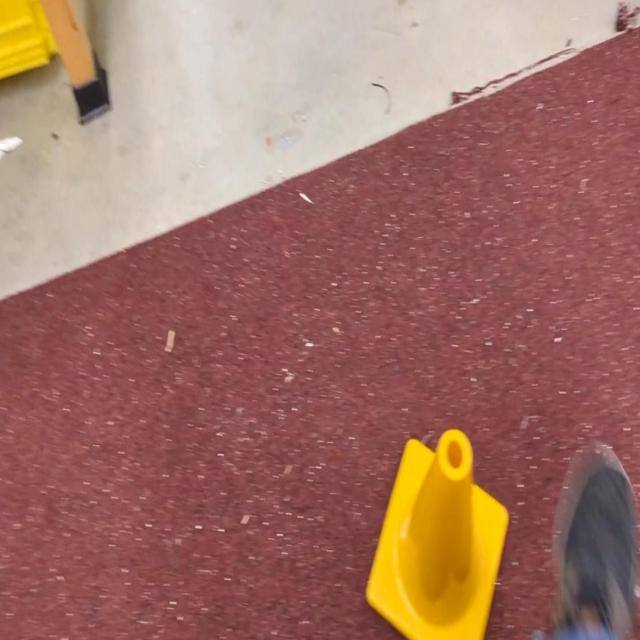frc_cone: (364, 434, 510, 640)
